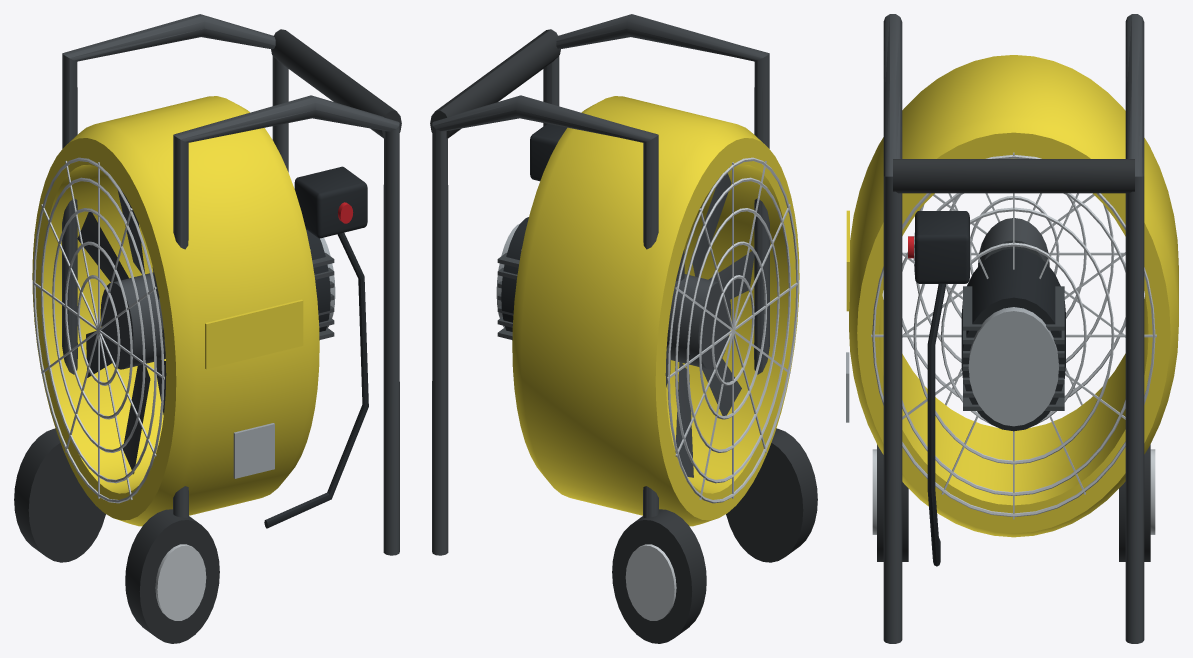
Rendered from ob_fan.glb.
3 views of the same model, side by side, from view 1: azimuth 30°, elevation 25°; view 2: azimuth 150°, elevation 25°; view 3: azimuth 270°, elevation 25° (orthographic). The views are drawn at different scales.
Parts seen in each view (by area): view 1: ob_fan; view 2: ob_fan; view 3: ob_fan.
Part boxes in pixels (x1=…): ob_fan: x1=14, y1=14, x2=401, y2=643; ob_fan: x1=430, y1=14, x2=817, y2=643; ob_fan: x1=846, y1=14, x2=1178, y2=643.
Bounding box in the file's own units: 0.55 × 0.99 × 0.54.
